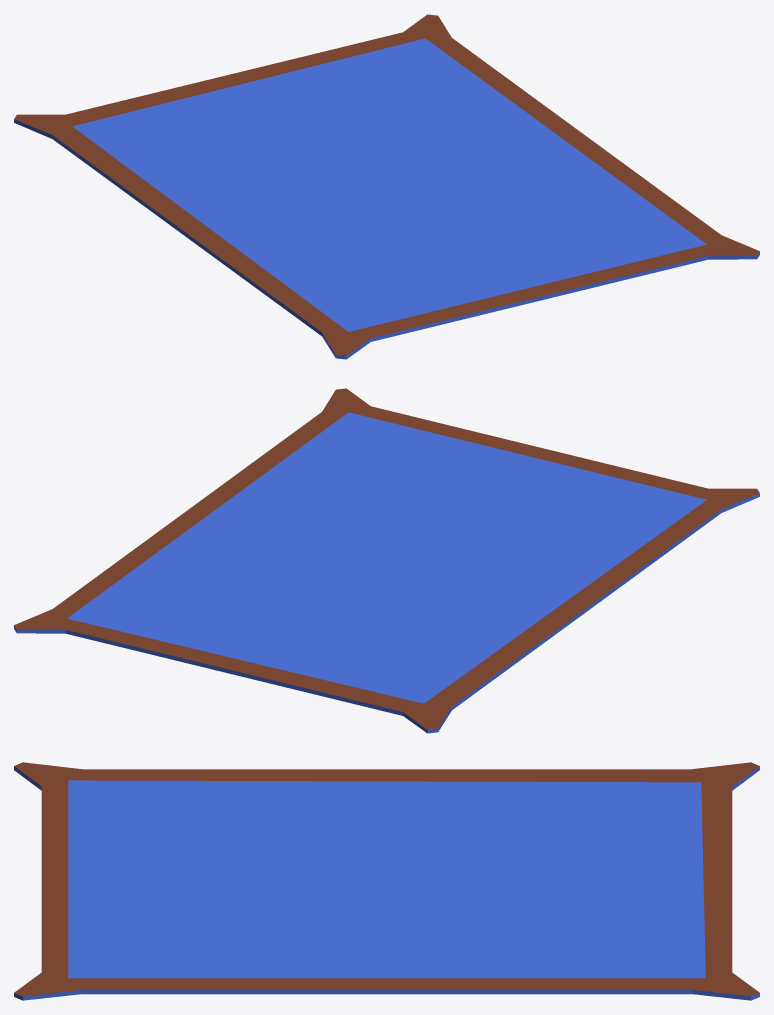
Rendered from FloorCarpet.fbx.
3 renders of one model, top to bottom at view 1: azimuth 30°, elevation 25°; view 2: azimuth 150°, elevation 25°; view 3: azimuth 270°, elevation 25°, orthographic. The views are drawn at different scales.
Visible parts, largest first — view 1: FloorCove; view 2: FloorCove; view 3: FloorCove.
Part boxes in pixels (<box>): FloorCove: <box>14,14,759,359</box>; FloorCove: <box>14,388,759,733</box>; FloorCove: <box>14,762,759,1000</box>.
Size of the model in its own units: 537 by 4.78 by 723.
